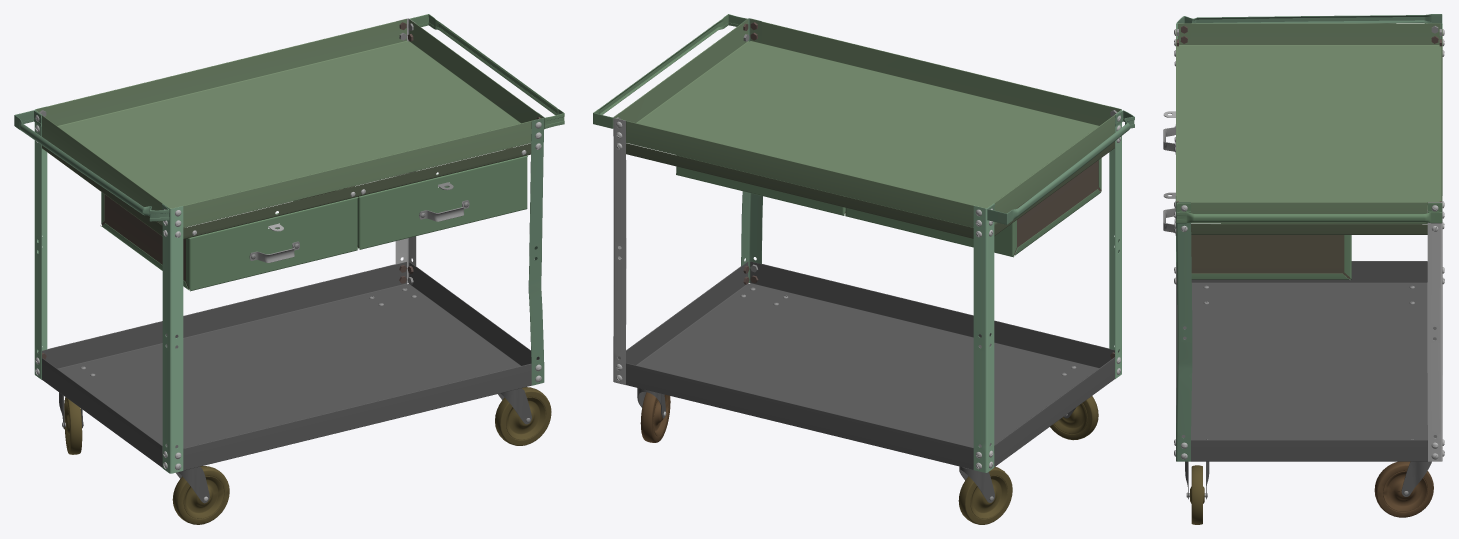
File: parts.gltf
The picture shows the model from 3 angles, left to right: view 1: azimuth 30°, elevation 25°; view 2: azimuth 150°, elevation 25°; view 3: azimuth 270°, elevation 25°; orthographic projection. The views are drawn at different scales.
Parts seen in each view (by area): view 1: tool_cart; view 2: tool_cart; view 3: tool_cart.
Part boxes in pixels (left/top/right/bottom): tool_cart: left=14, top=14, right=564, bottom=524; tool_cart: left=593, top=14, right=1134, bottom=524; tool_cart: left=1163, top=14, right=1444, bottom=524.
Bounding box in the file's own units: 1.27 × 0.9646 × 0.7536.
